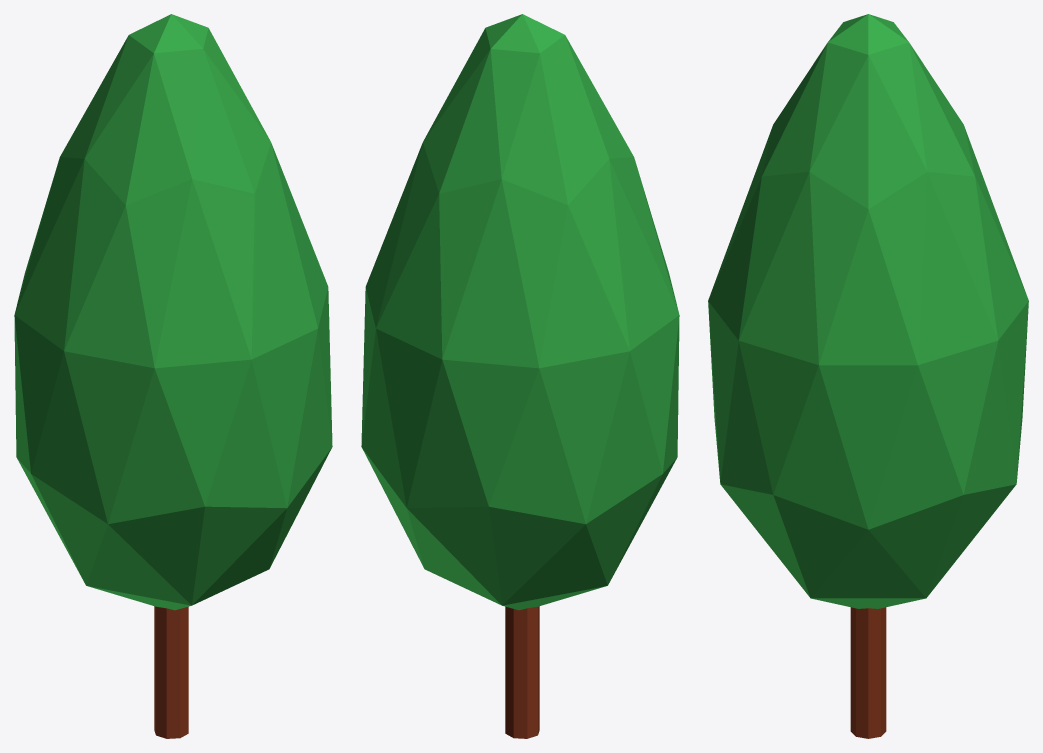
The model's file is tree.4.fbx.
3 renders of one model, left to right at view 1: azimuth 30°, elevation 25°; view 2: azimuth 150°, elevation 25°; view 3: azimuth 270°, elevation 25°, orthographic.
Parts seen in each view (by area): view 1: Tree.004; view 2: Tree.004; view 3: Tree.004.
Boxes of the visible parts, left/top/right/bottom form: Tree.004: left=14, top=14, right=332, bottom=738; Tree.004: left=361, top=14, right=679, bottom=738; Tree.004: left=708, top=14, right=1028, bottom=738.
Bounding box in the file's own units: 356 × 887 × 359.
